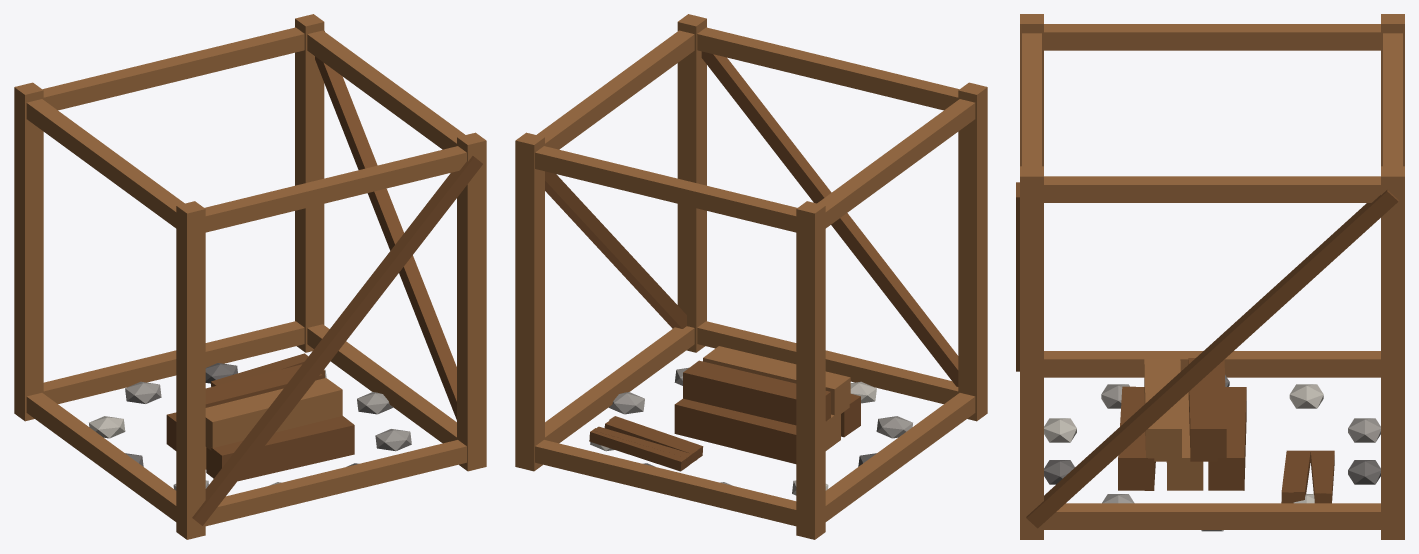
File: site_frame.glb
The picture shows the model from 3 angles, left to right: view 1: azimuth 30°, elevation 25°; view 2: azimuth 150°, elevation 25°; view 3: azimuth 270°, elevation 25°; orthographic projection. The views are drawn at different scales.
Parts seen in each view (by area): view 1: plank, plank_dark, stone, stone_light, stone_dark; view 2: plank, plank_dark, stone, stone_light; view 3: plank, plank_dark, stone_light, stone, stone_dark.
Boxes of the visible parts, x1,y1,x2,y2 form: plank: [14, 14, 486, 539]; plank_dark: [166, 31, 482, 525]; stone: [125, 381, 411, 490]; stone_light: [89, 369, 326, 485]; stone_dark: [125, 363, 358, 466]; plank: [515, 14, 987, 539]; plank_dark: [545, 51, 958, 471]; stone: [608, 367, 912, 485]; stone_light: [590, 381, 876, 495]; plank: [1020, 14, 1404, 539]; plank_dark: [1016, 182, 1398, 528]; stone_light: [1044, 384, 1323, 503]; stone: [1101, 384, 1380, 531]; stone_dark: [1044, 375, 1380, 484].
Size of the model in its own units: 0.97 by 1.01 by 0.97.
